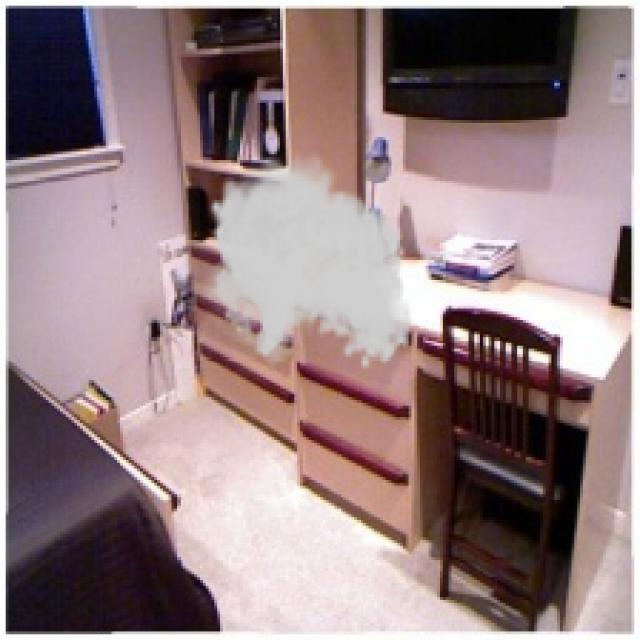smoke: (197, 146, 414, 371)
